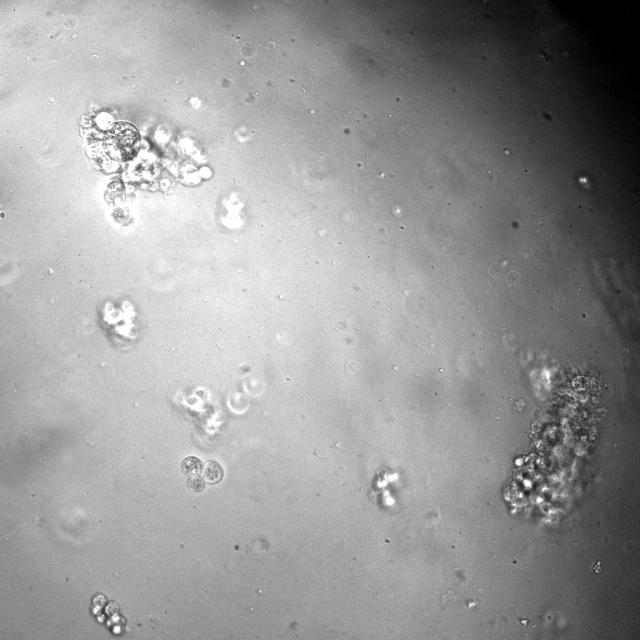organoid: (502, 349, 604, 524), (79, 105, 213, 227), (172, 385, 229, 449), (98, 297, 140, 350), (181, 455, 223, 492), (89, 592, 126, 634), (371, 467, 399, 508), (512, 398, 526, 412), (592, 559, 602, 574), (518, 617, 529, 626), (512, 559, 516, 564), (385, 539, 389, 543)
